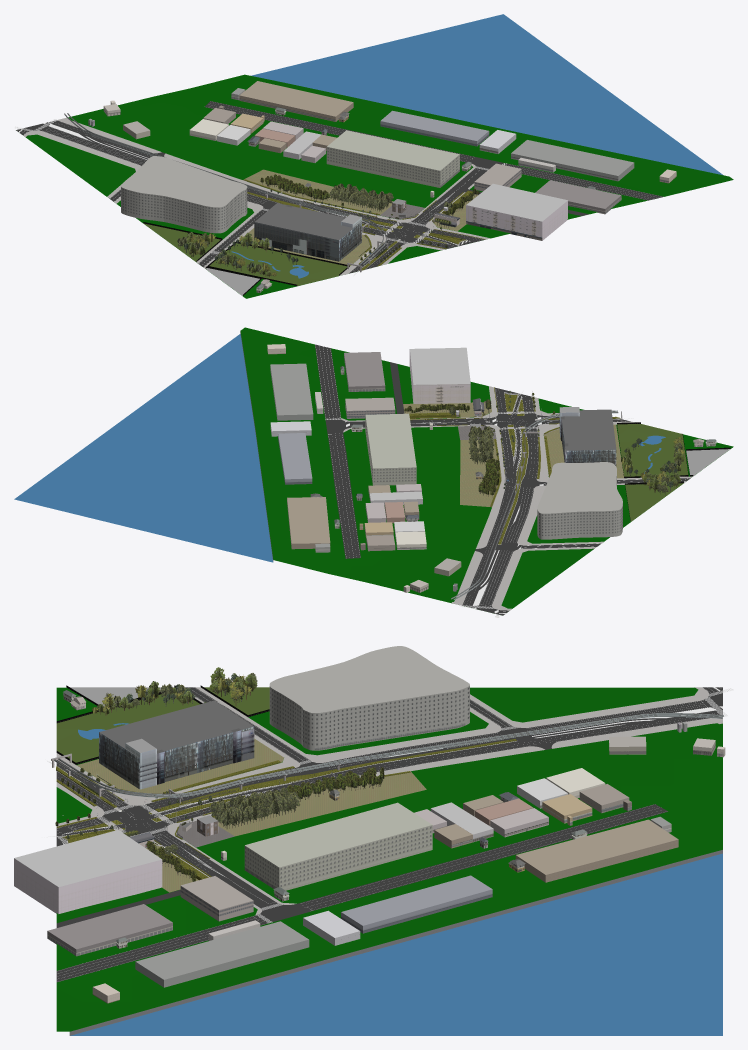
The picture shows the model from 3 angles, top to bottom: view 1: azimuth 30°, elevation 25°; view 2: azimuth 150°, elevation 25°; view 3: azimuth 270°, elevation 25°; orthographic projection. The views are drawn at different scales.
Visible parts, largest first — view 1: 005339_07013_water, 005339_07013_ground, 005339_07013_road, 005339_07013_facilligreen, 005339_07013_65000G_-9947701_build5Fto10F, 005339_07013_65000G_-9927501_build5Fto10F, 005339_07013_61000G_-9970201_buildtarget, 005339_07013_walk, 005339_07013_65000G_-9011001_build5Fto10F, 005339_07013_64000G_-9898301_build5Funder, 005339_07013_64000G_-9898201_build5Funder, 005339_07013_64000G_-9898901_build5Funder (+9 smaller); view 2: 005339_07013_ground, 005339_07013_water, 005339_07013_road, 005339_07013_facilligreen, 005339_07013_65000G_-9947701_build5Fto10F, 005339_07013_walk, 005339_07013_65000G_-9927501_build5Fto10F, 005339_07013_65000G_-9011001_build5Fto10F, 005339_07013_61000G_-9970201_buildtarget, 005339_07013_64000G_-9898301_build5Funder, 005339_07013_facilli, 005339_07013_64000G_-9898201_build5Funder (+8 smaller); view 3: 005339_07013_water, 005339_07013_ground, 005339_07013_road, 005339_07013_facilligreen, 005339_07013_65000G_-9947701_build5Fto10F, 005339_07013_65000G_-9927501_build5Fto10F, 005339_07013_walk, 005339_07013_61000G_-9970201_buildtarget, 005339_07013_65000G_-9011001_build5Fto10F, 005339_07013_64000G_-9898301_build5Funder, 005339_07013_64000G_-9898201_build5Funder, 005339_07013_64000G_-9898901_build5Funder (+15 smaller).
Part boxes in pixels (x1,y1,x2,y2): 005339_07013_water: (231, 14, 723, 278); 005339_07013_ground: (25, 74, 733, 298); 005339_07013_road: (14, 101, 663, 275); 005339_07013_facilligreen: (143, 169, 393, 286); 005339_07013_65000G_-9947701_build5Fto10F: (121, 156, 247, 233); 005339_07013_65000G_-9927501_build5Fto10F: (326, 130, 459, 187); 005339_07013_61000G_-9970201_buildtarget: (254, 203, 361, 261); 005339_07013_walk: (23, 117, 489, 275); 005339_07013_65000G_-9011001_build5Fto10F: (466, 183, 567, 240); 005339_07013_64000G_-9898301_build5Funder: (511, 140, 634, 181); 005339_07013_64000G_-9898201_build5Funder: (239, 81, 353, 121); 005339_07013_64000G_-9898901_build5Funder: (380, 110, 489, 146); 005339_07013_ground: (240, 327, 733, 608); 005339_07013_water: (14, 331, 665, 562); 005339_07013_road: (315, 344, 690, 617); 005339_07013_facilligreen: (460, 422, 688, 521); 005339_07013_65000G_-9947701_build5Fto10F: (537, 462, 622, 539); 005339_07013_walk: (341, 386, 692, 610); 005339_07013_65000G_-9927501_build5Fto10F: (365, 413, 416, 485); 005339_07013_65000G_-9011001_build5Fto10F: (409, 347, 470, 403); 005339_07013_61000G_-9970201_buildtarget: (559, 407, 616, 466); 005339_07013_64000G_-9898301_build5Funder: (270, 363, 313, 420); 005339_07013_facilli: (403, 399, 730, 476); 005339_07013_64000G_-9898201_build5Funder: (287, 497, 330, 549); 005339_07013_water: (69, 723, 722, 1035); 005339_07013_ground: (56, 687, 722, 1031); 005339_07013_road: (44, 687, 733, 982); 005339_07013_facilligreen: (56, 667, 426, 836); 005339_07013_65000G_-9947701_build5Fto10F: (269, 646, 469, 750); 005339_07013_65000G_-9927501_build5Fto10F: (244, 802, 432, 890); 005339_07013_walk: (55, 687, 722, 915); 005339_07013_61000G_-9970201_buildtarget: (99, 700, 254, 789); 005339_07013_65000G_-9011001_build5Fto10F: (14, 830, 162, 913); 005339_07013_64000G_-9898301_build5Funder: (135, 921, 309, 987); 005339_07013_64000G_-9898201_build5Funder: (515, 819, 678, 882); 005339_07013_64000G_-9898901_build5Funder: (341, 875, 492, 933).
Size of the model in its own units: 695 by 38.91 by 608.
22 materials, 22 textured.
